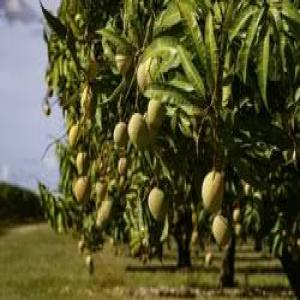Tree: (37, 2, 299, 276)
